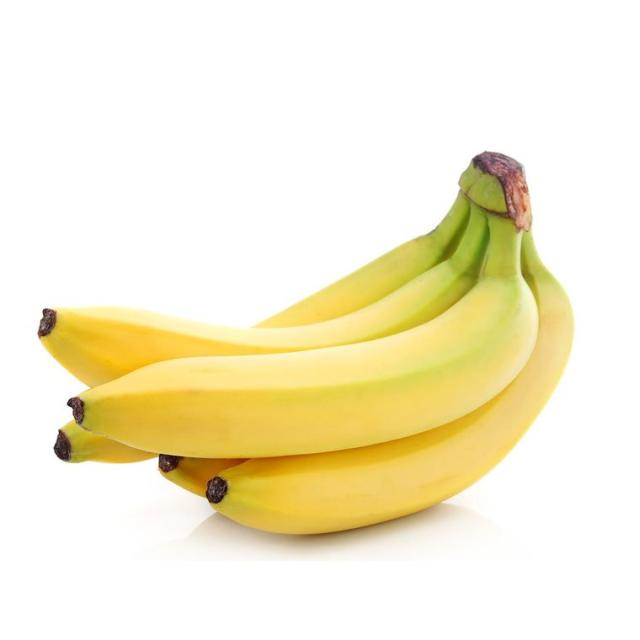banana: (34, 144, 600, 550)
